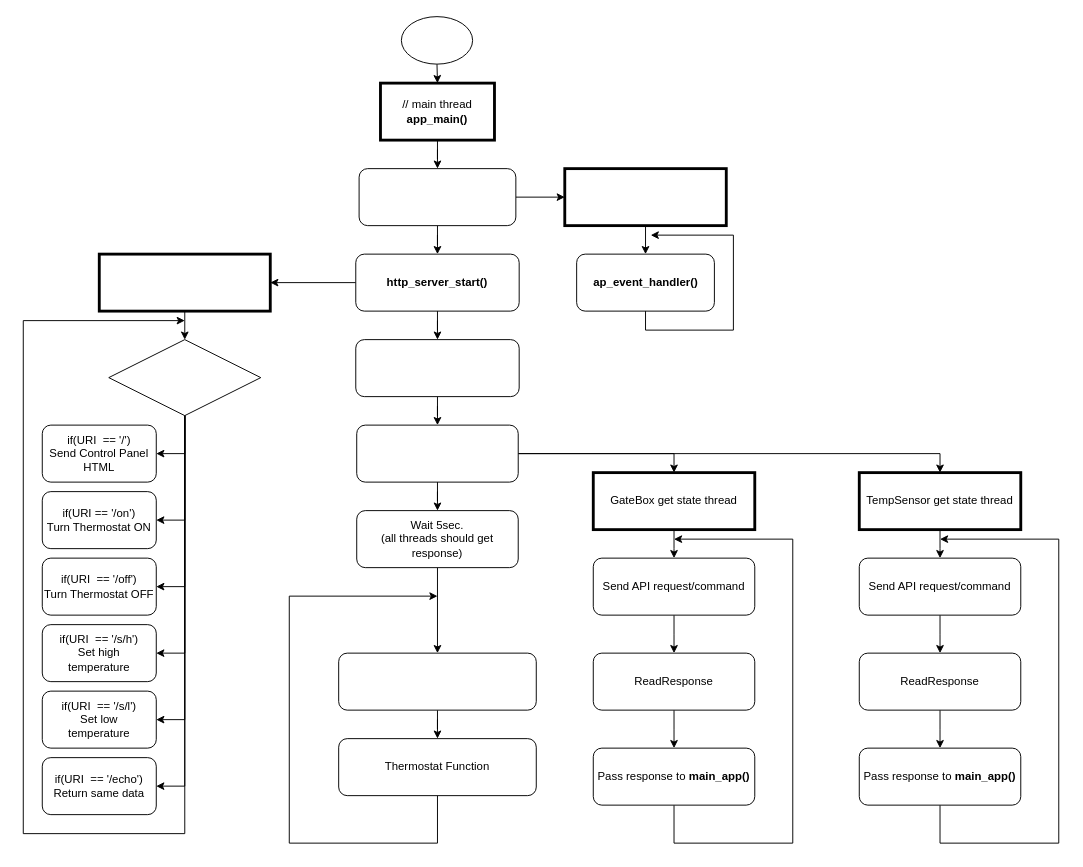
This 1083x867 diagram has some shape labels left out. The shapes that lost their labels are listed below. From the top down, each one's box as (x1, y1, x2, y2) in pixels, then its label:
(400, 16, 473, 64): Start
(358, 168, 516, 226): // connect to local wifi ap_client_start()
(563, 167, 727, 227): AP thread (default event loop)
(97, 252, 271, 312): HTTP server thread
(108, 339, 261, 416): // received URI .uri
(355, 339, 519, 397): Set default thermostat parameters
(356, 424, 518, 482): Run get_device_state() Threads
(338, 652, 536, 710): Get Device's State (temperature, heater state)
